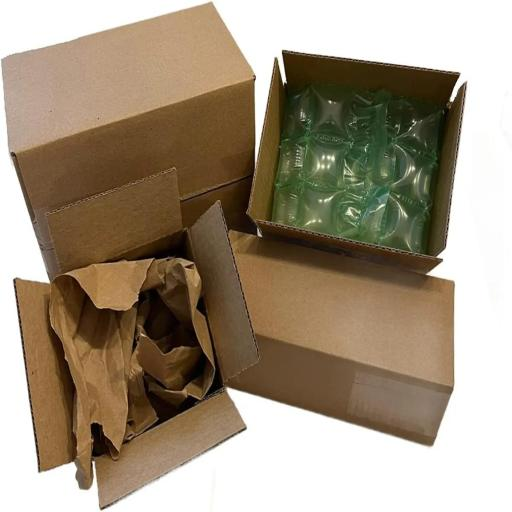cardboard: (12, 166, 262, 509), (0, 1, 258, 282), (202, 227, 457, 447), (244, 48, 469, 274)
